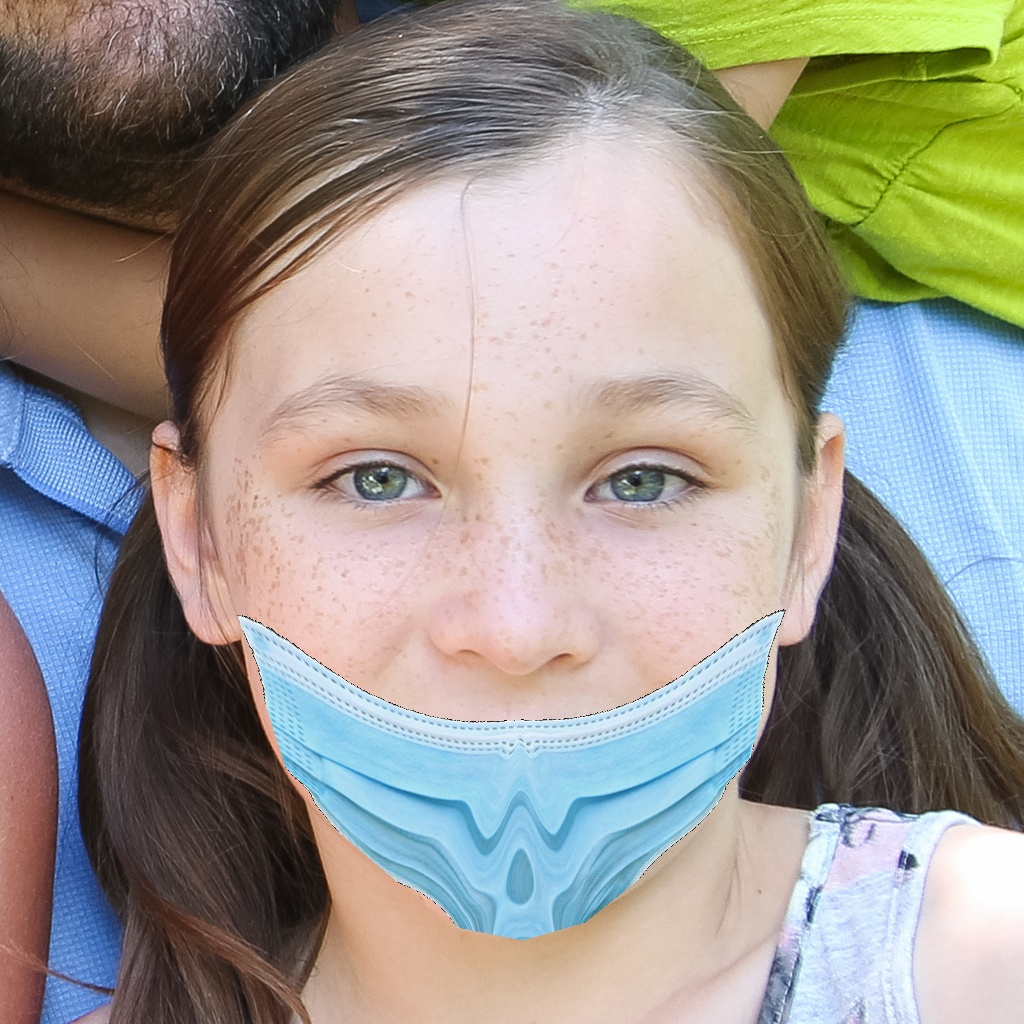mask_weared_incorrect: (227, 380, 809, 943)
